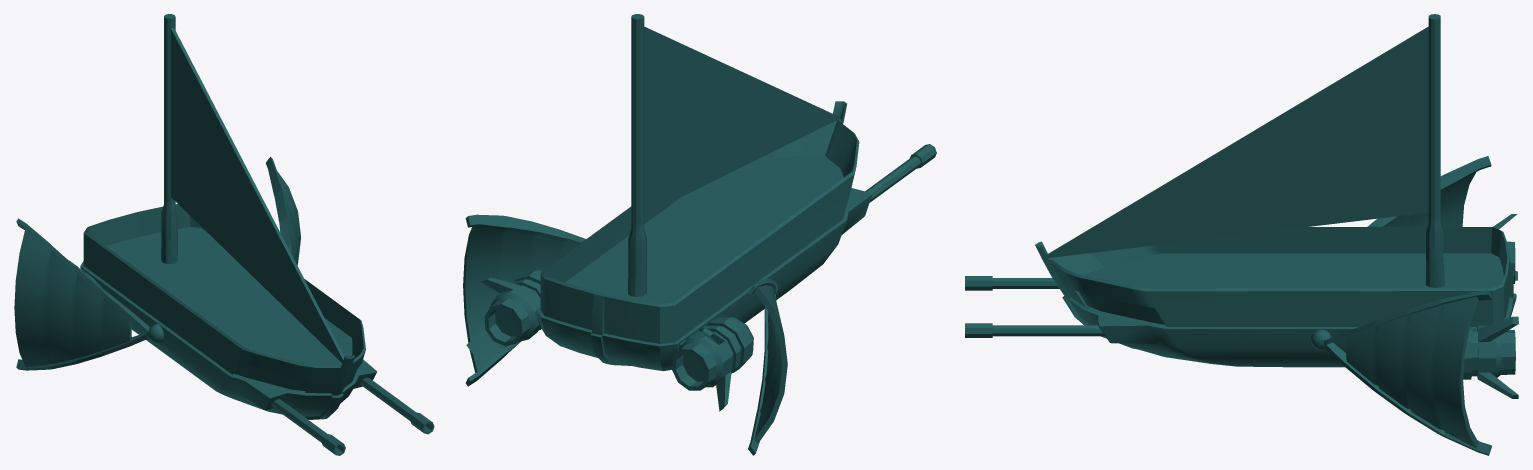
The model's file is Fighter_Player_Ship.fbx.
The picture shows the model from 3 angles, left to right: view 1: azimuth 30°, elevation 25°; view 2: azimuth 150°, elevation 25°; view 3: azimuth 270°, elevation 25°; orthographic projection. The views are drawn at different scales.
Visible parts, largest first — view 1: Main, Side_Sail_Right, Side_Sail_Left; view 2: Main, Side_Sail_Left, Side_Sail_Right; view 3: Main, Side_Sail_Left, Side_Sail_Right.
Part boxes in pixels (x1=…): Main: x1=69, y1=14, x2=434, y2=455; Side_Sail_Right: x1=14, y1=218, x2=164, y2=370; Side_Sail_Left: x1=266, y1=157, x2=300, y2=265; Main: x1=466, y1=14, x2=936, y2=411; Side_Sail_Left: x1=463, y1=214, x2=585, y2=386; Side_Sail_Right: x1=748, y1=278, x2=787, y2=455; Main: x1=965, y1=14, x2=1518, y2=398; Side_Sail_Left: x1=1310, y1=290, x2=1491, y2=455; Side_Sail_Right: x1=1367, y1=156, x2=1491, y2=226.
Bounding box in the file's own units: 12.75 × 14.42 × 19.45.
